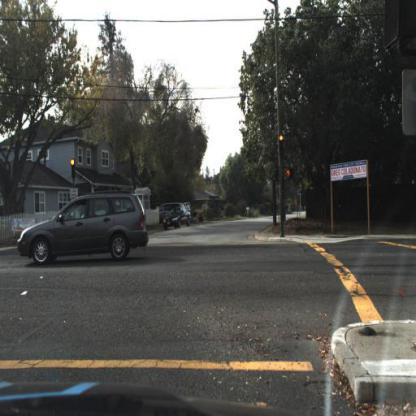car: (13, 191, 151, 274), (164, 207, 192, 233)
trafficLight: (71, 160, 76, 180)
trafficLight-Red: (280, 133, 285, 156)
